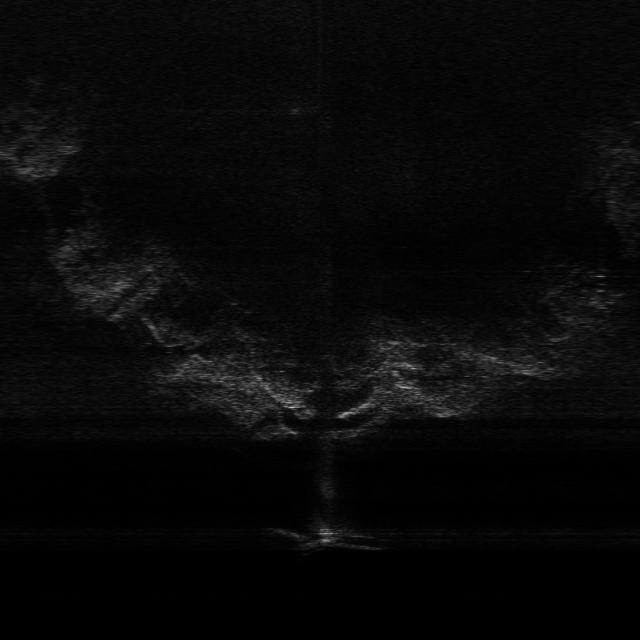plane: (263, 519, 386, 554)
